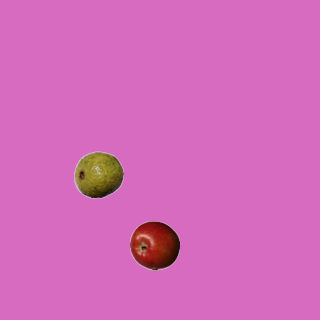Apple Braeburn: (129, 220, 179, 270)
Guava: (73, 149, 123, 199)
